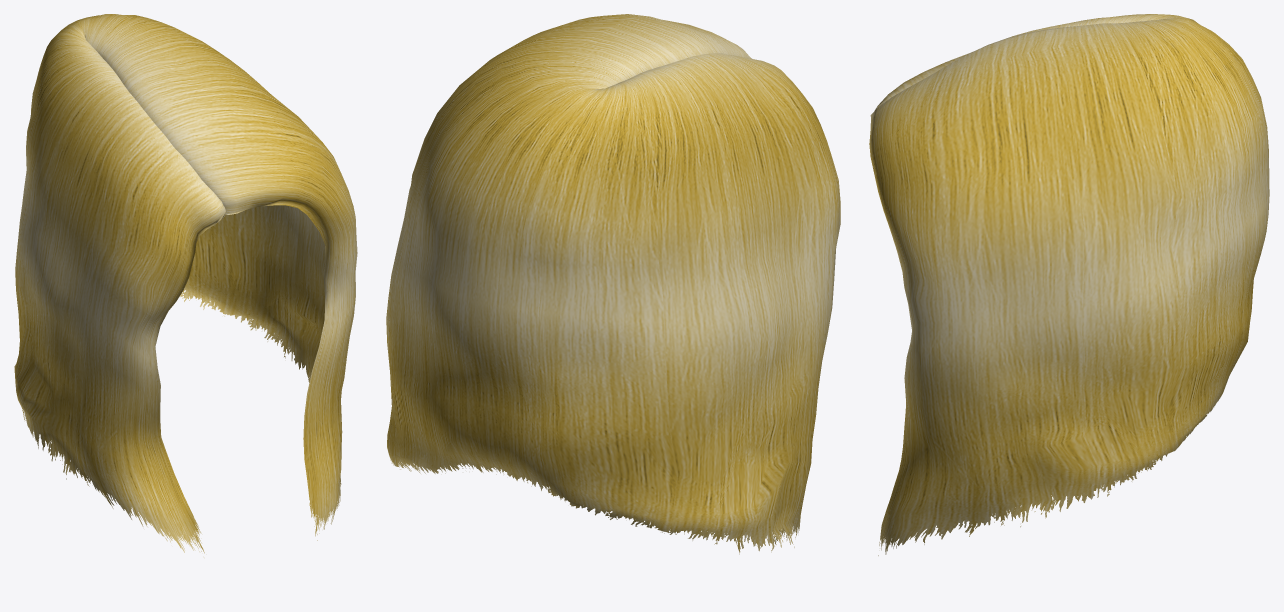
The model's file is mh_toigo_inverted_bob.glb.
The picture shows the model from 3 angles, left to right: view 1: azimuth 30°, elevation 25°; view 2: azimuth 150°, elevation 25°; view 3: azimuth 270°, elevation 25°; orthographic projection. The views are drawn at different scales.
Parts seen in each view (by area): view 1: mh_toigo_inverted_bob; view 2: mh_toigo_inverted_bob; view 3: mh_toigo_inverted_bob.
Part boxes in pixels (x1,y1,x2,y2): mh_toigo_inverted_bob: (14, 14, 357, 553); mh_toigo_inverted_bob: (386, 14, 840, 554); mh_toigo_inverted_bob: (869, 14, 1269, 555).
Bounding box in the file's own units: 0.195 × 0.3308 × 0.2242.
1 material, 1 textured.
